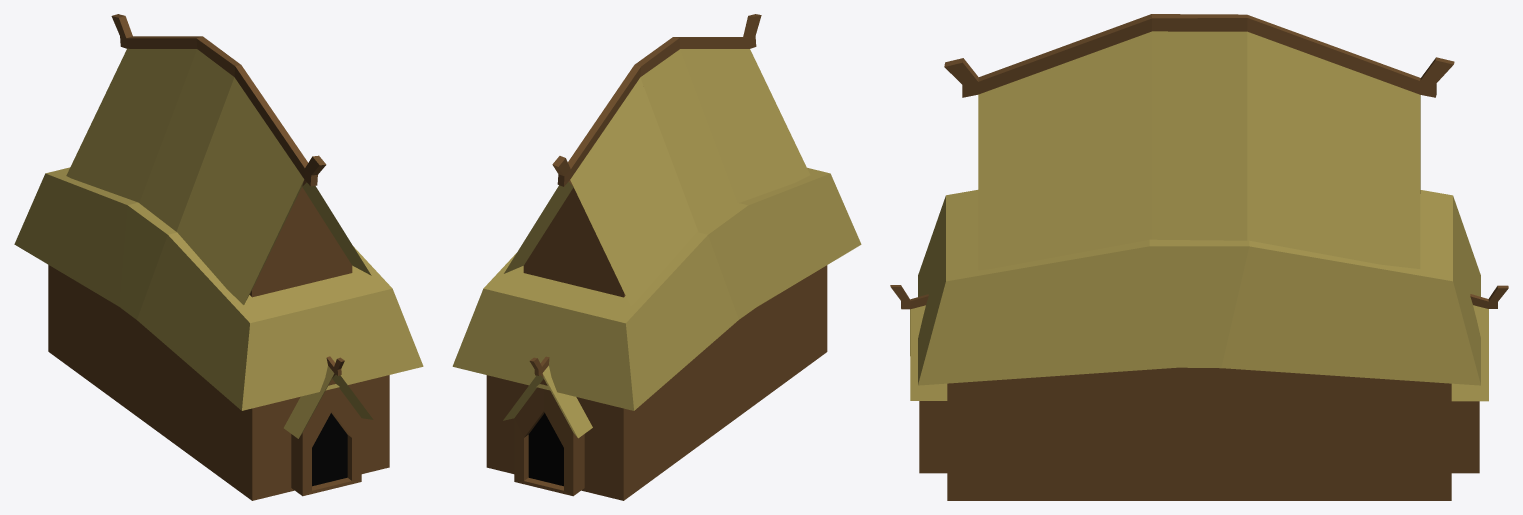
File: Hall1.glb
3 views of the same model, side by side, from view 1: azimuth 30°, elevation 25°; view 2: azimuth 150°, elevation 25°; view 3: azimuth 270°, elevation 25° (orthographic). The views are drawn at different scales.
Visible parts, largest first — view 1: Cube.011; view 2: Cube.011; view 3: Cube.011.
Boxes of the visible parts, box(x1,y1,x2,y2) form: Cube.011: box(14, 14, 423, 500); Cube.011: box(452, 14, 861, 500); Cube.011: box(890, 14, 1508, 500).
Bounding box in the file's own units: 0.594 × 1.12 × 1.41.
